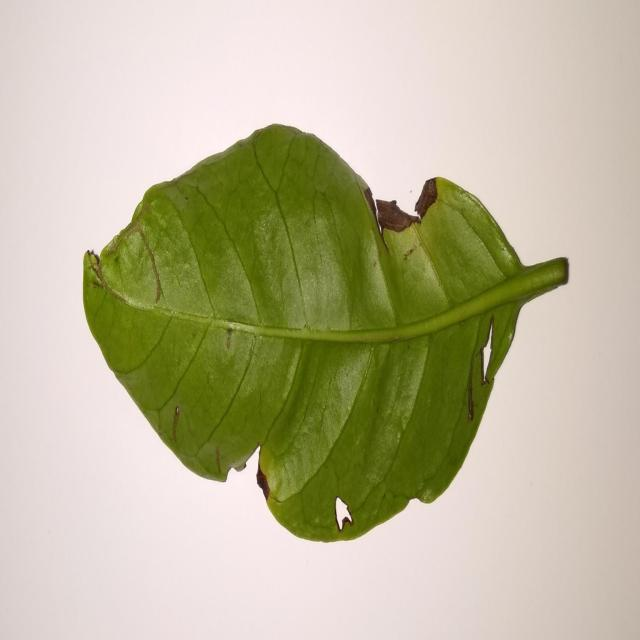Enfermedad-Antracnosis: (81, 124, 570, 546)
